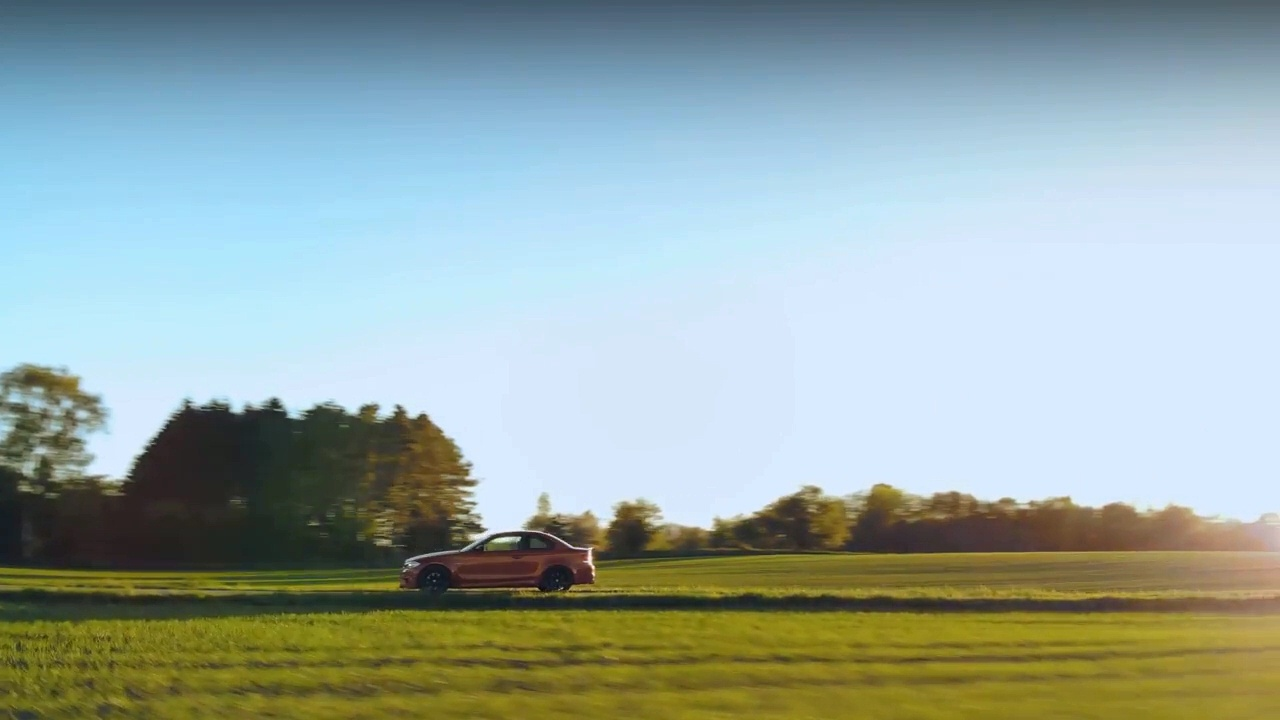araba: (397, 527, 599, 601)
